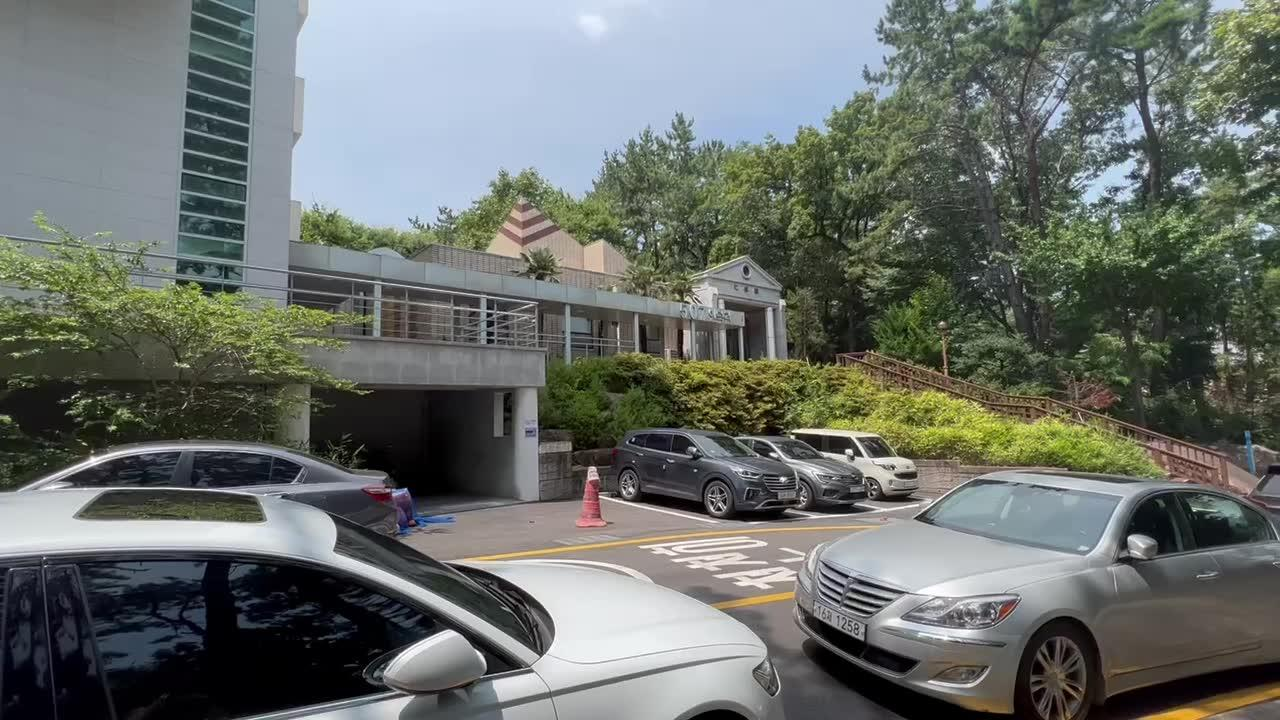building: (348, 197, 786, 364)
